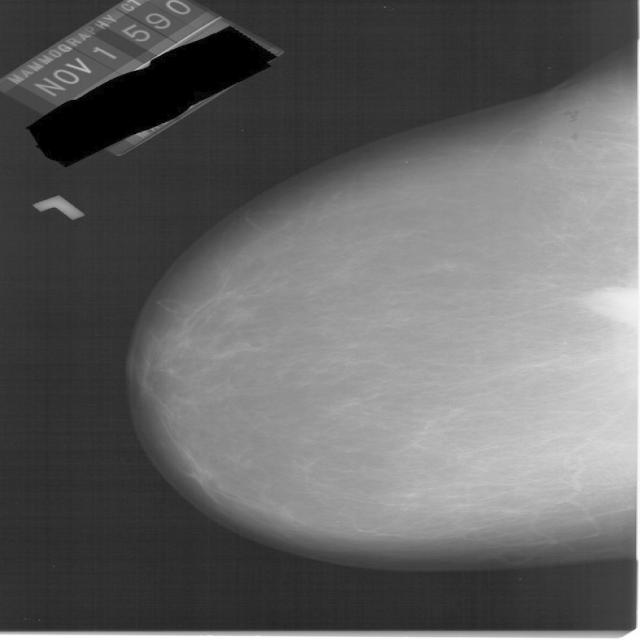tumour: (583, 286, 635, 330)
